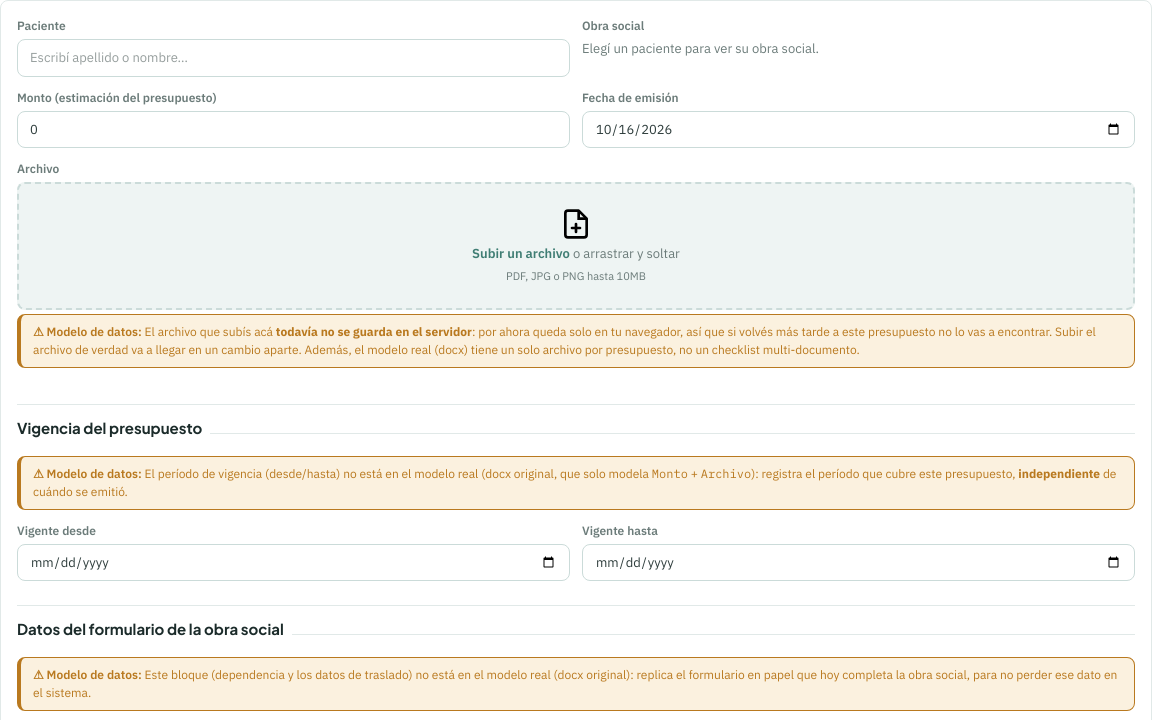
PresupuestoForm › cambiar de paciente cambia la obra social derivada
The width and height of the screenshot is (1152, 720).
Click the dropdown labelled "Paciente".
click(294, 58)  # box [17, 39, 570, 76]
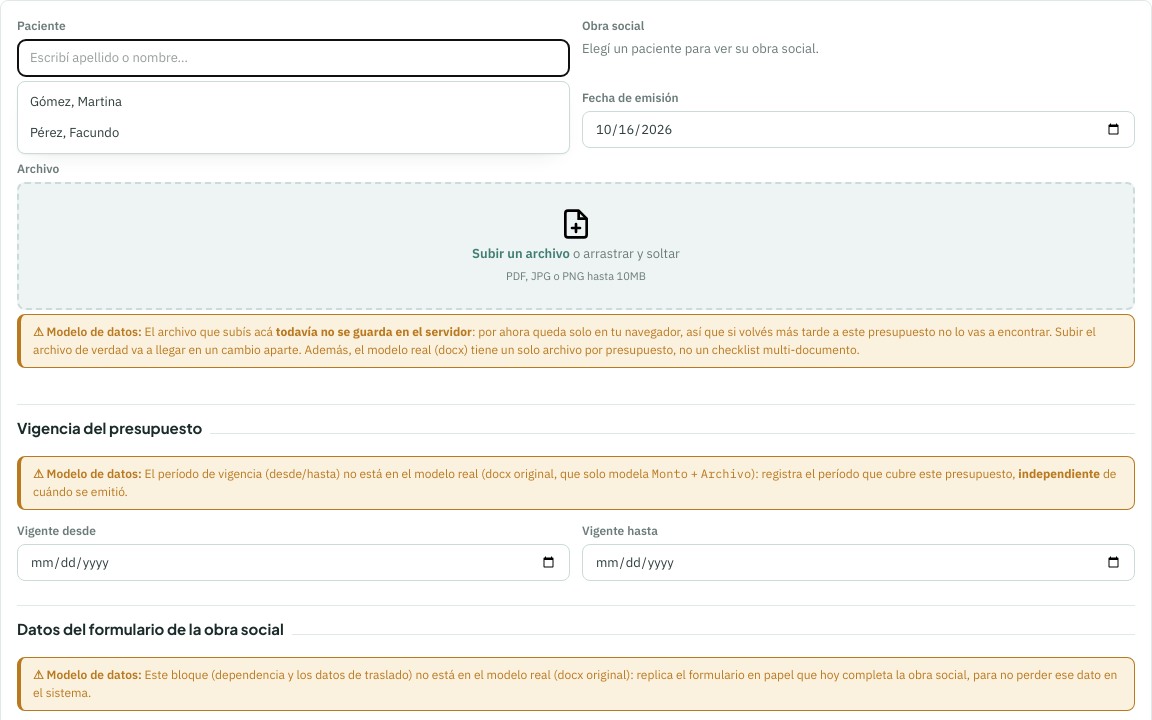
Click the option "Gómez, Martina".
click(76, 101)  # box [30, 92, 122, 110]
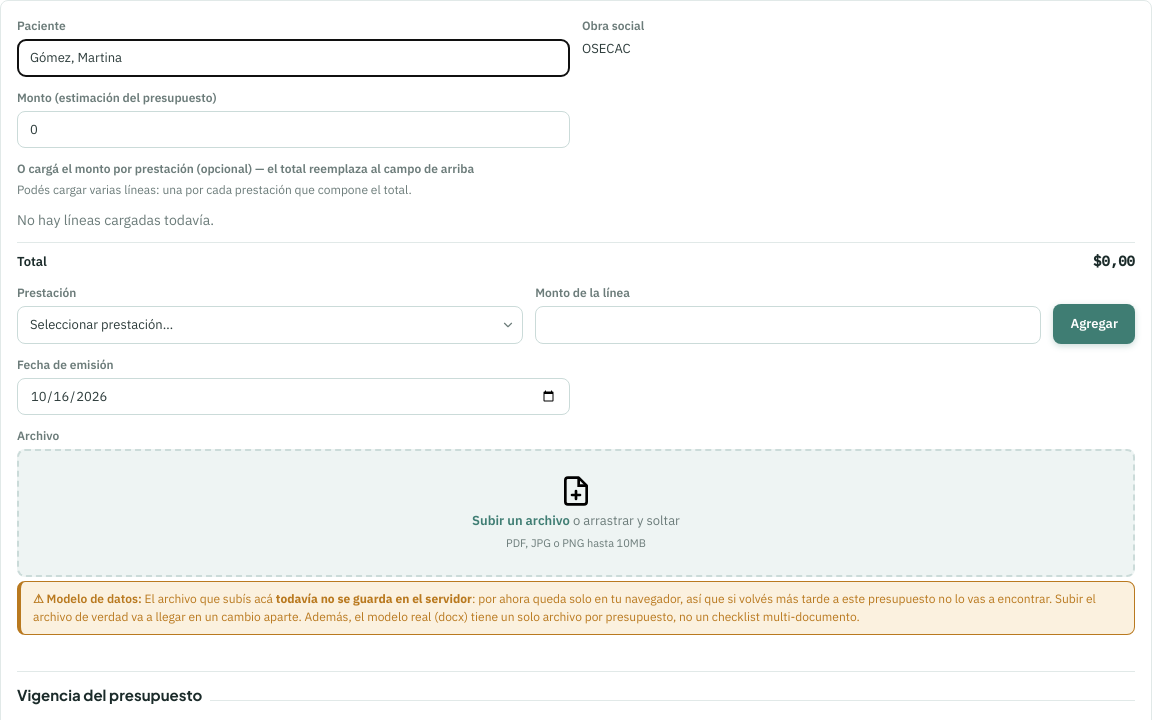
Check: the text "OSECAC" is shown, box [582, 40, 631, 57]
Click the dropdown labelled "Paciente".
click(294, 58)  # box [17, 39, 570, 76]
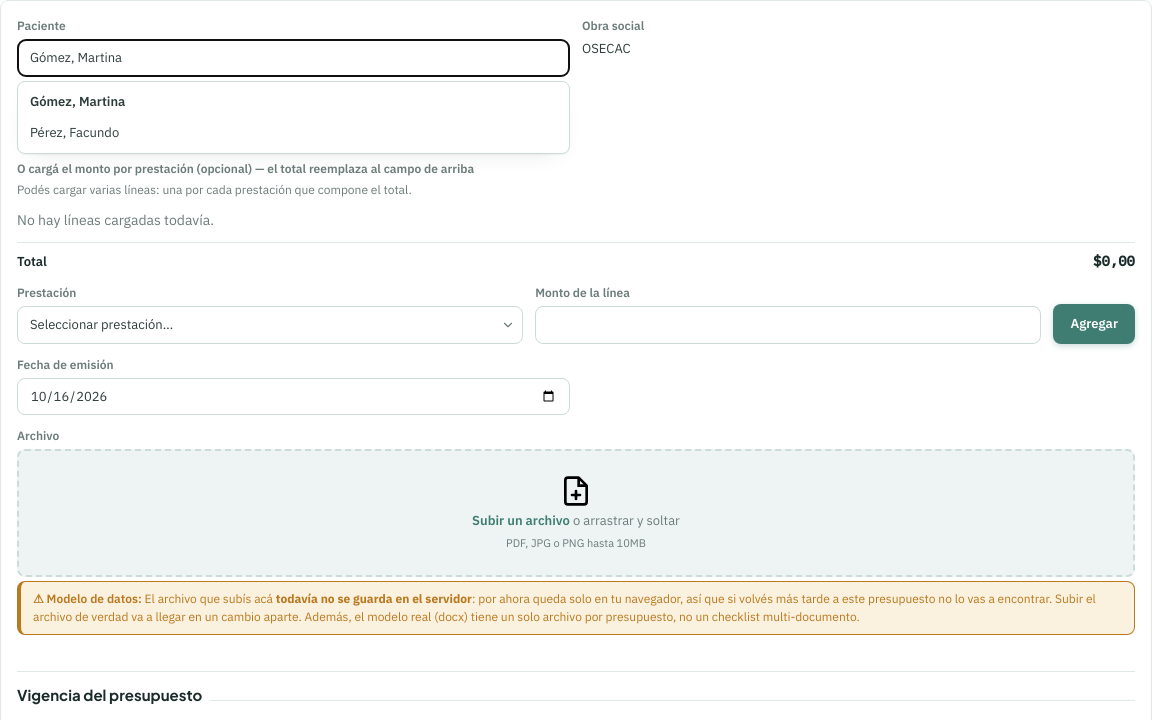
Click the option "Pérez, Facundo".
click(75, 132)  # box [30, 124, 119, 141]
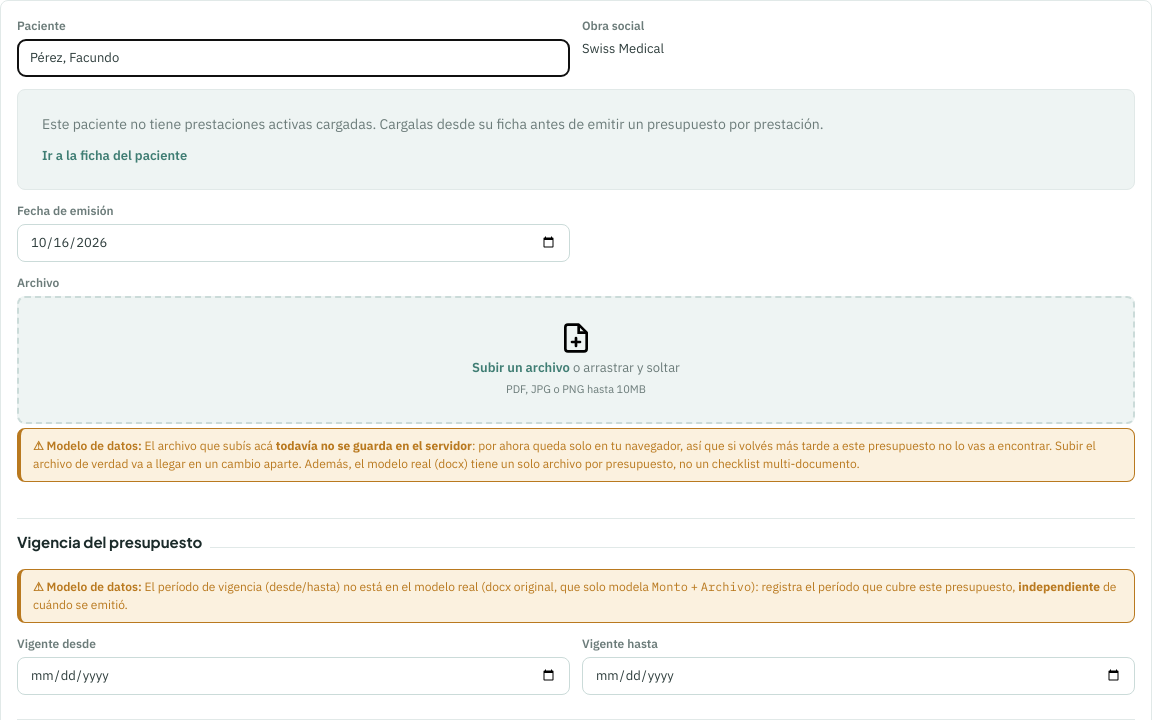
Check: the text "OSECAC" is gone
Check: the text "Swiss Medical" is shown, box [582, 40, 664, 57]
